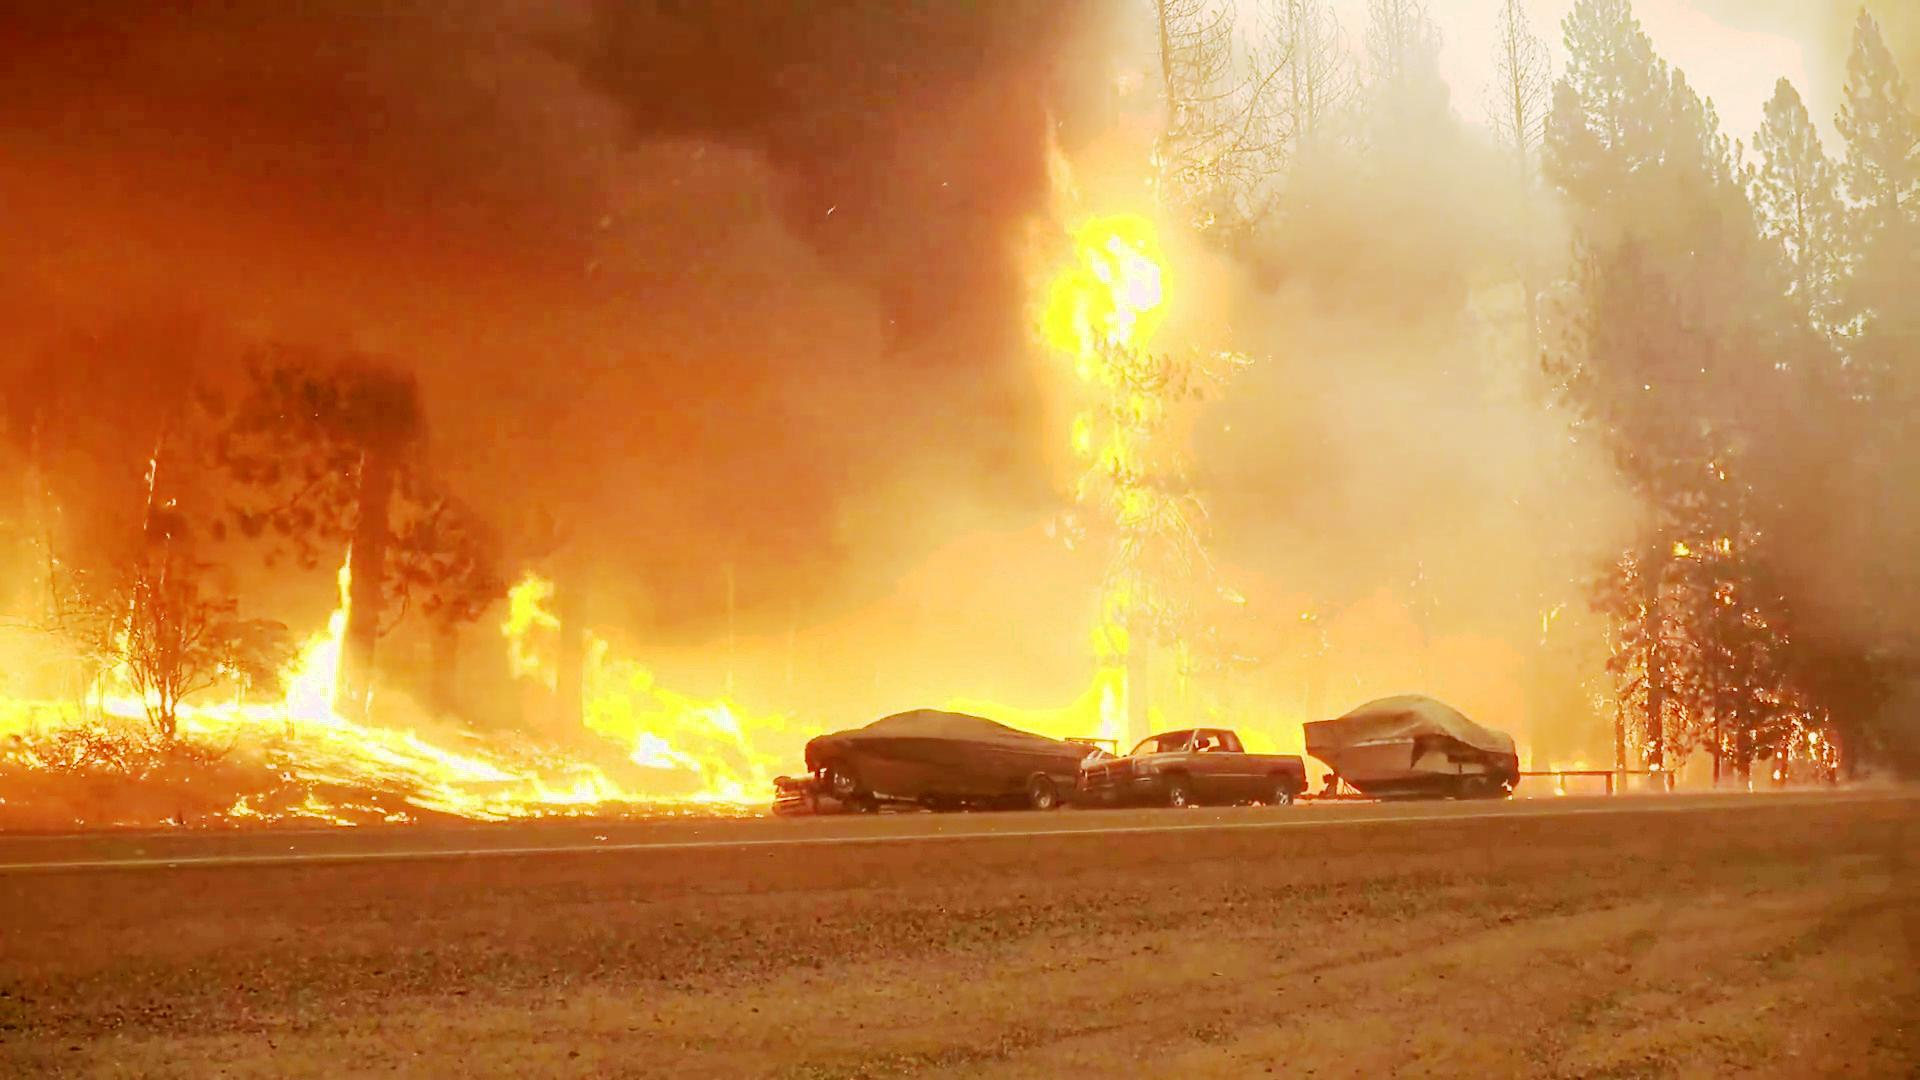fire: (1030, 175, 1168, 727), (597, 644, 815, 812), (0, 613, 164, 773), (298, 583, 407, 765)
